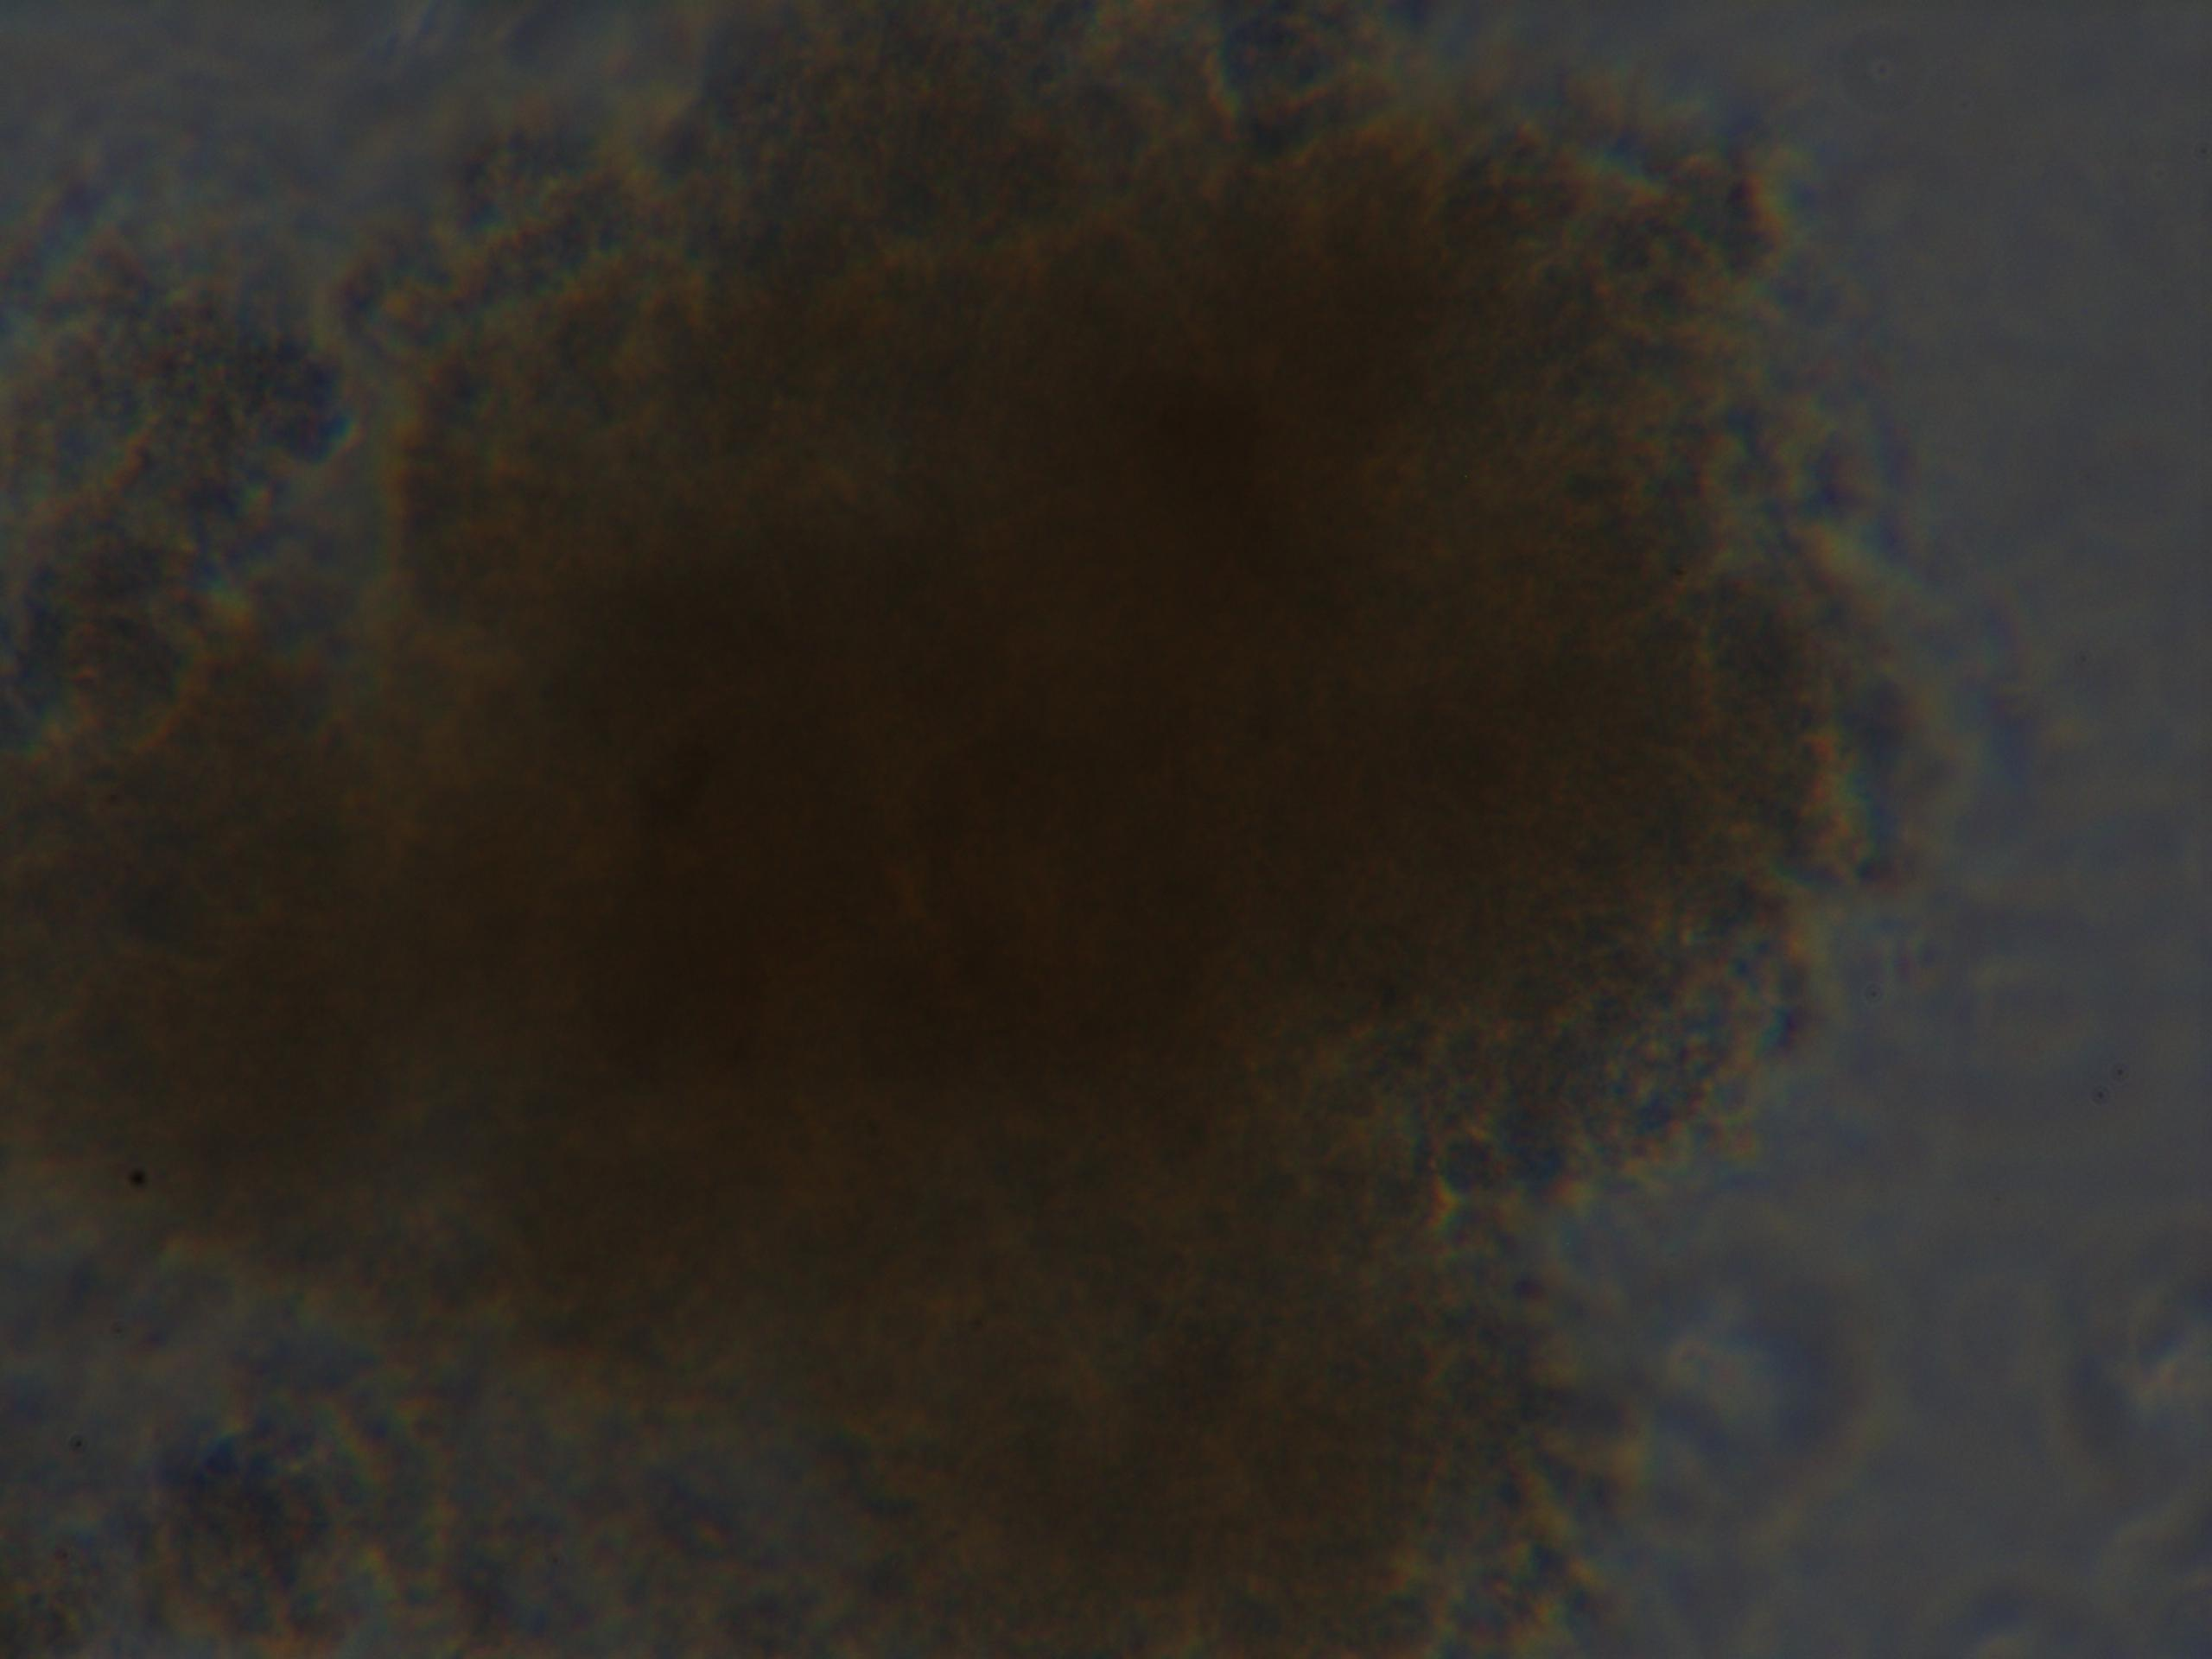spherical_floc: (0, 5, 1907, 1659)
